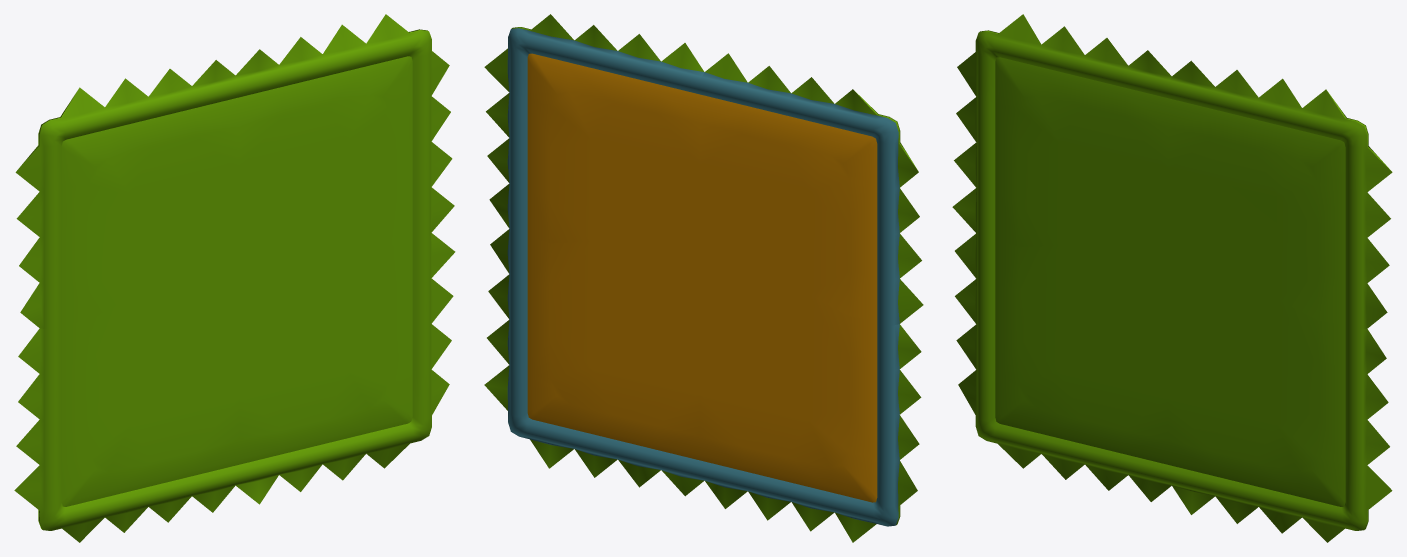
Rendered from QuiltPatch.fbx.
3 renders of one model, left to right at view 1: azimuth 30°, elevation 25°; view 2: azimuth 150°, elevation 25°; view 3: azimuth 330°, elevation 25°, orthographic.
Visible parts, largest first — view 1: QuiltPatch; view 2: QuiltPatch; view 3: QuiltPatch.
Boxes of the visible parts, left/top/right/bottom form: QuiltPatch: left=14, top=14, right=455, bottom=542; QuiltPatch: left=484, top=14, right=923, bottom=542; QuiltPatch: left=952, top=14, right=1392, bottom=542.
Bounding box in the file's own units: 591 × 591 × 19.96.
